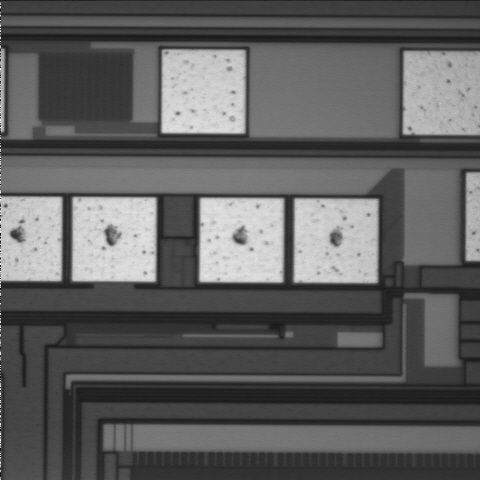pad: (73, 197, 156, 281), (200, 198, 283, 282), (294, 199, 377, 283), (162, 50, 245, 133)
